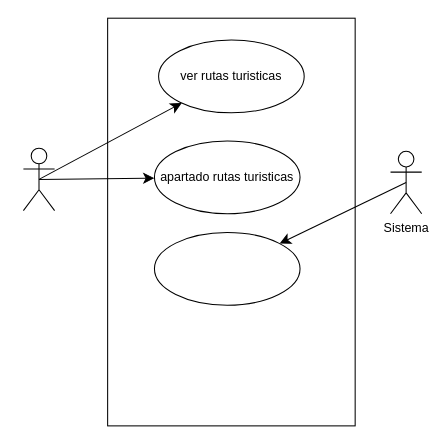
Some shapes in this 446 by 444 pixel diagram are drawn without their labels. The shapes that lost their labels are listed below. From the top down, each one's centre as x and y in pixels, then its label:
At (x=38, y=179): "Usuario".
At (x=226, y=268): "mostrar rutas turisticas".
